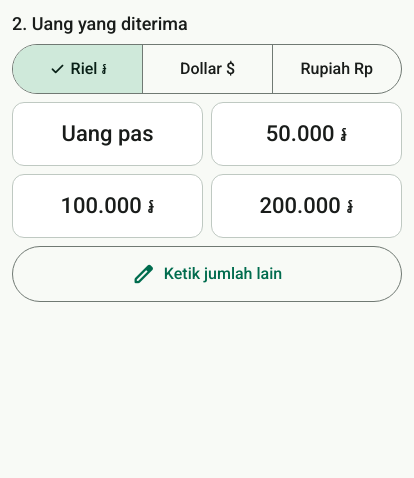
Test: Bayar – kembalian tunai › uang cepat 100.000 ៛ → kembalian 58.000 ៛ (≈ $14.15)
Click the button "100.000 ៛" at (108, 206), box [12,174,203,238]
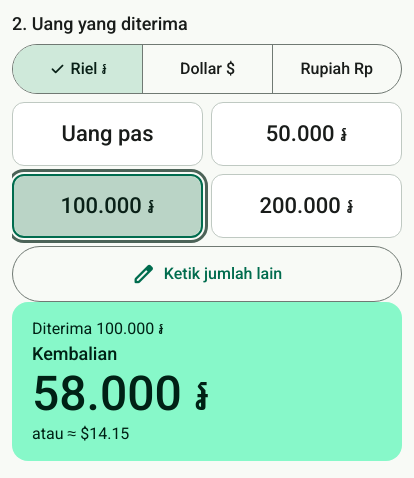
expect the text "Diterima 100.000 ៛" is shown: met, box [32,319,164,338]
expect the text with test id "change-amount" reads "58.000 ៛": met, box [32,365,210,422]
expect the text "atau ≈ $14.15" is shown: met, box [32,424,129,443]
